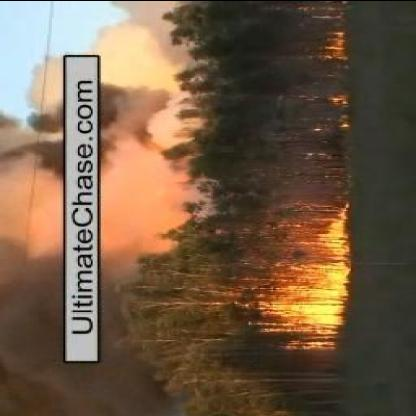-: (0, 108, 63, 381), (104, 62, 166, 246)
foggia-v2-map80-epoch100 - v1 4323: (278, 254, 350, 338)
